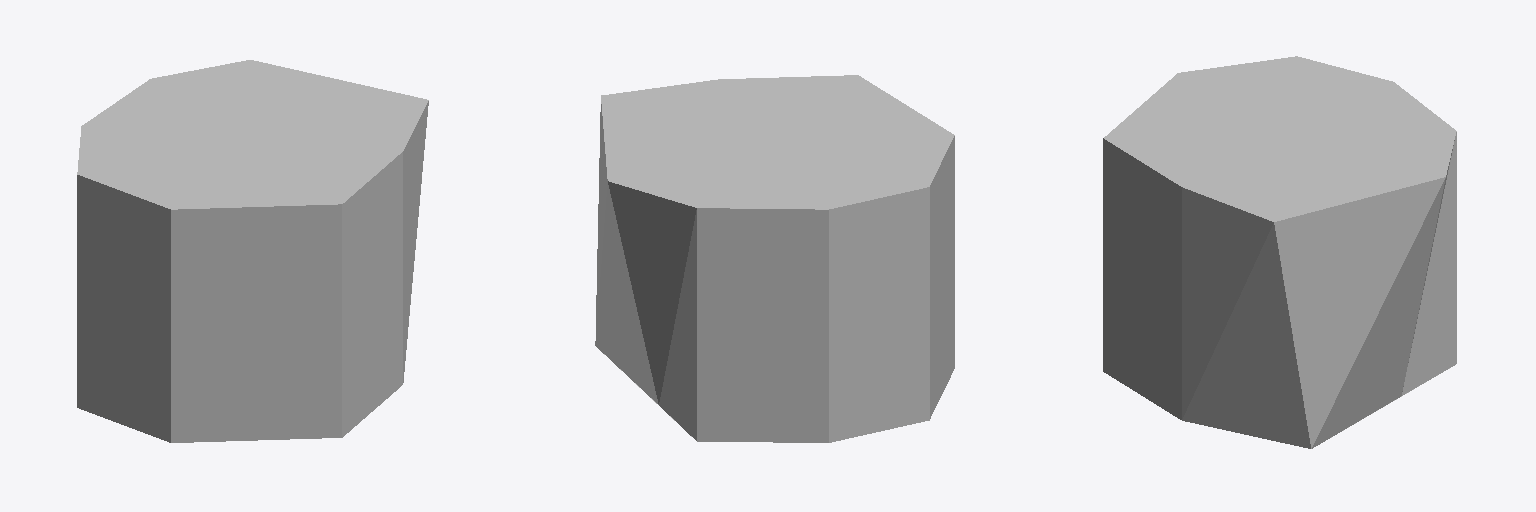
Rendered from platformEmptyCOLL.obj.
The picture shows the model from 3 angles: view 1: azimuth 30°, elevation 25°; view 2: azimuth 150°, elevation 25°; view 3: azimuth 270°, elevation 25°; orthographic projection.
Visible parts, largest first — view 1: platformEmptyCOLL PlatfprmsAndSpikes; view 2: platformEmptyCOLL PlatfprmsAndSpikes; view 3: platformEmptyCOLL PlatfprmsAndSpikes.
Boxes of the visible parts, x1=… form: platformEmptyCOLL PlatfprmsAndSpikes: x1=77, y1=60, x2=428, y2=442; platformEmptyCOLL PlatfprmsAndSpikes: x1=595, y1=75, x2=954, y2=442; platformEmptyCOLL PlatfprmsAndSpikes: x1=1103, y1=56, x2=1456, y2=448.
Bounding box in the file's own units: 6.84 × 4.48 × 6.15.